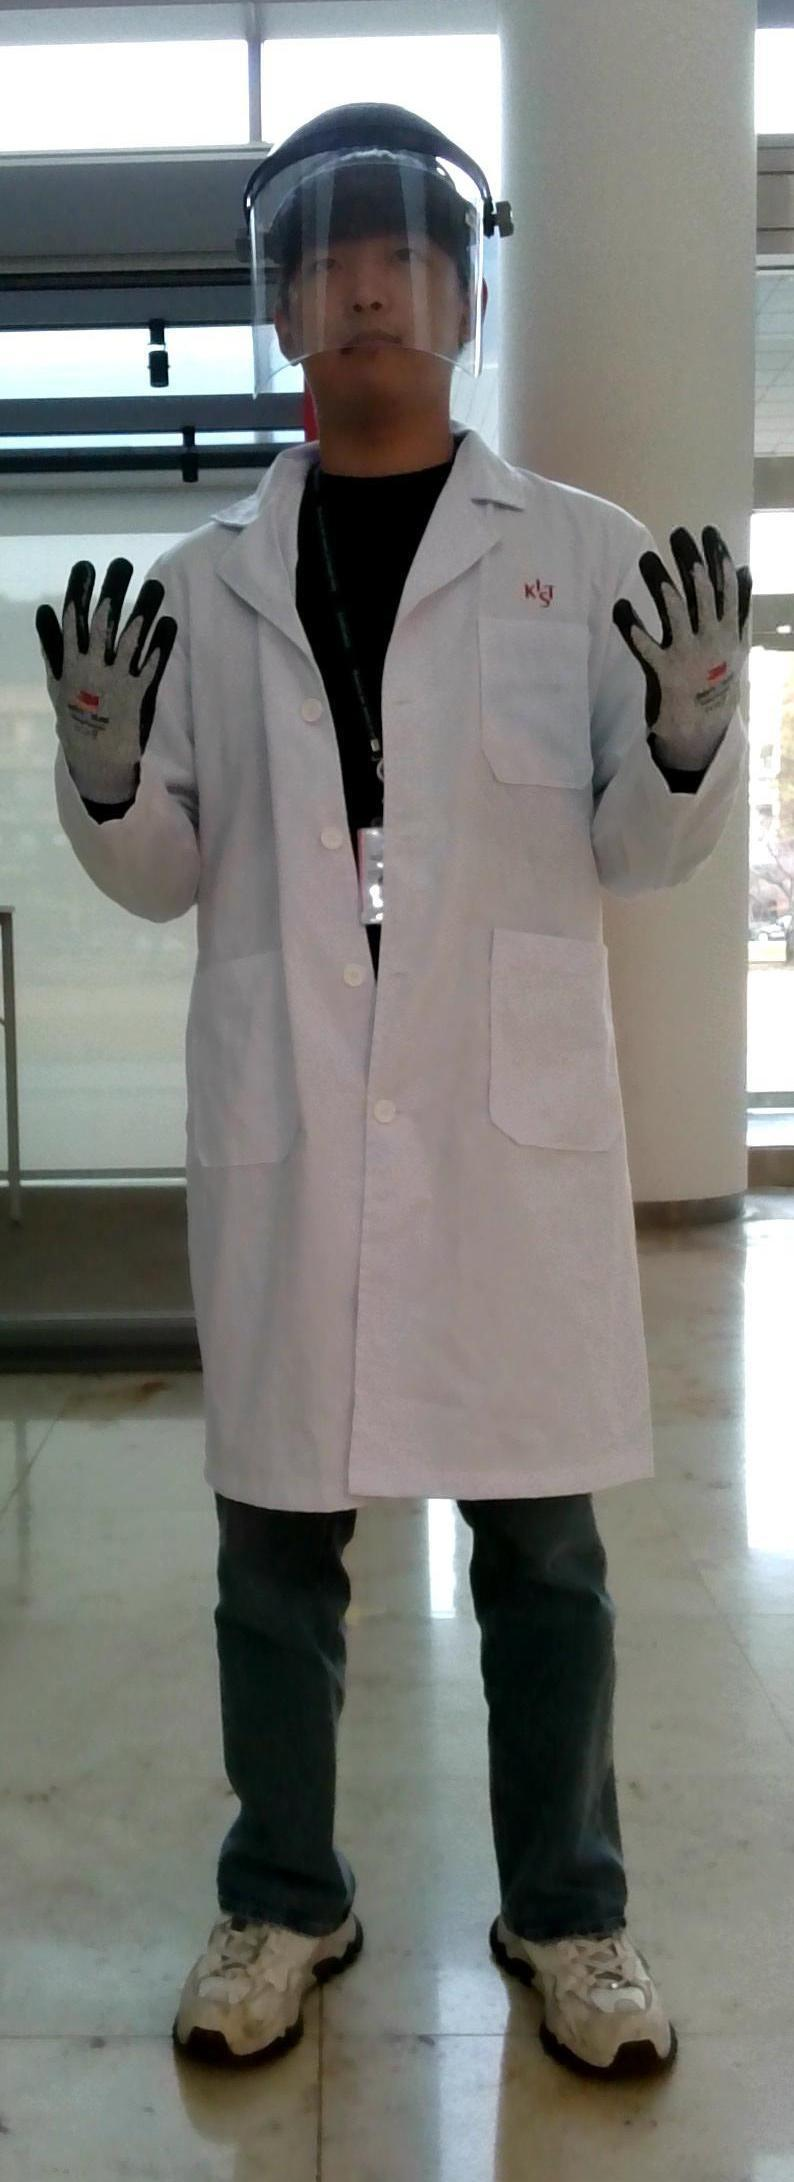lab_coat: (181, 516, 649, 1475)
